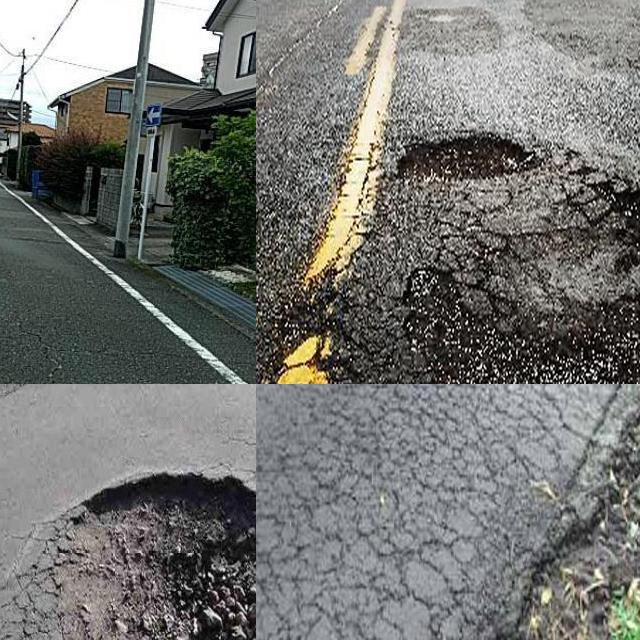Lubang: (419, 189, 640, 384), (48, 473, 256, 640), (396, 135, 544, 180)
Pinggir: (422, 388, 640, 640)
Retak Buaya: (256, 384, 563, 640)
